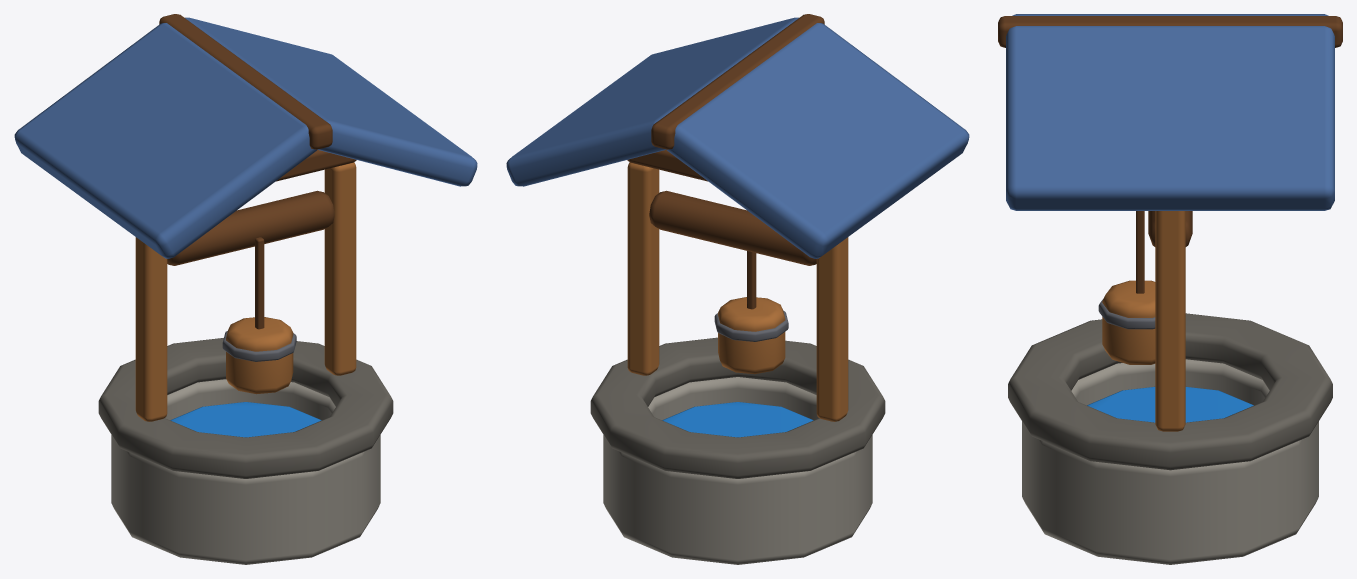
Rendered from Buildings__well.glb.
The picture shows the model from 3 angles, left to right: view 1: azimuth 30°, elevation 25°; view 2: azimuth 150°, elevation 25°; view 3: azimuth 270°, elevation 25°; orthographic projection. The views are drawn at different scales.
Parts seen in each view (by area): view 1: well_mesh; view 2: well_mesh; view 3: well_mesh.
Part boxes in pixels (left/top/right/bottom): well_mesh: left=14, top=14, right=477, bottom=564; well_mesh: left=506, top=14, right=969, bottom=564; well_mesh: left=998, top=14, right=1342, bottom=564.
Bounding box in the file's own units: 1.02 × 1.34 × 0.86.
